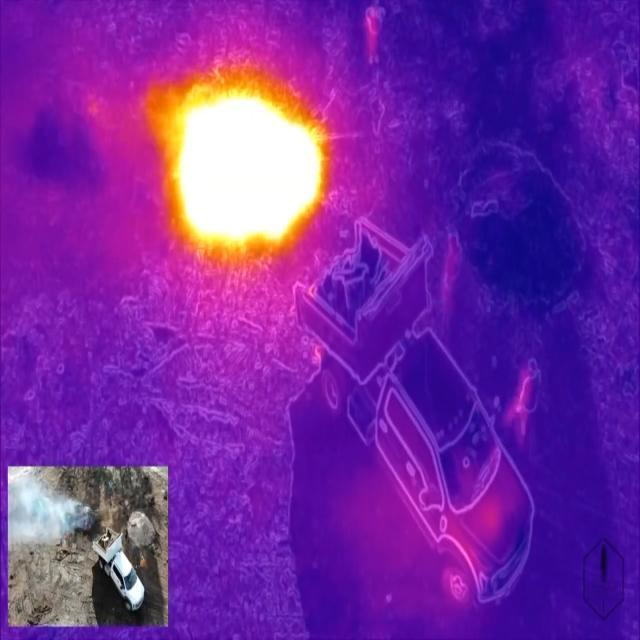fire: (148, 72, 333, 264)
